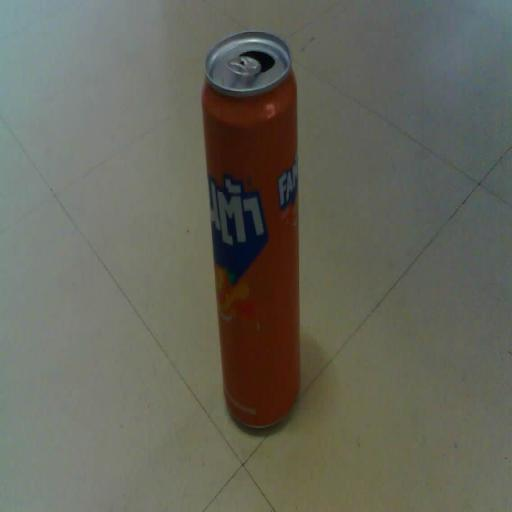canned: (196, 17, 314, 443)
